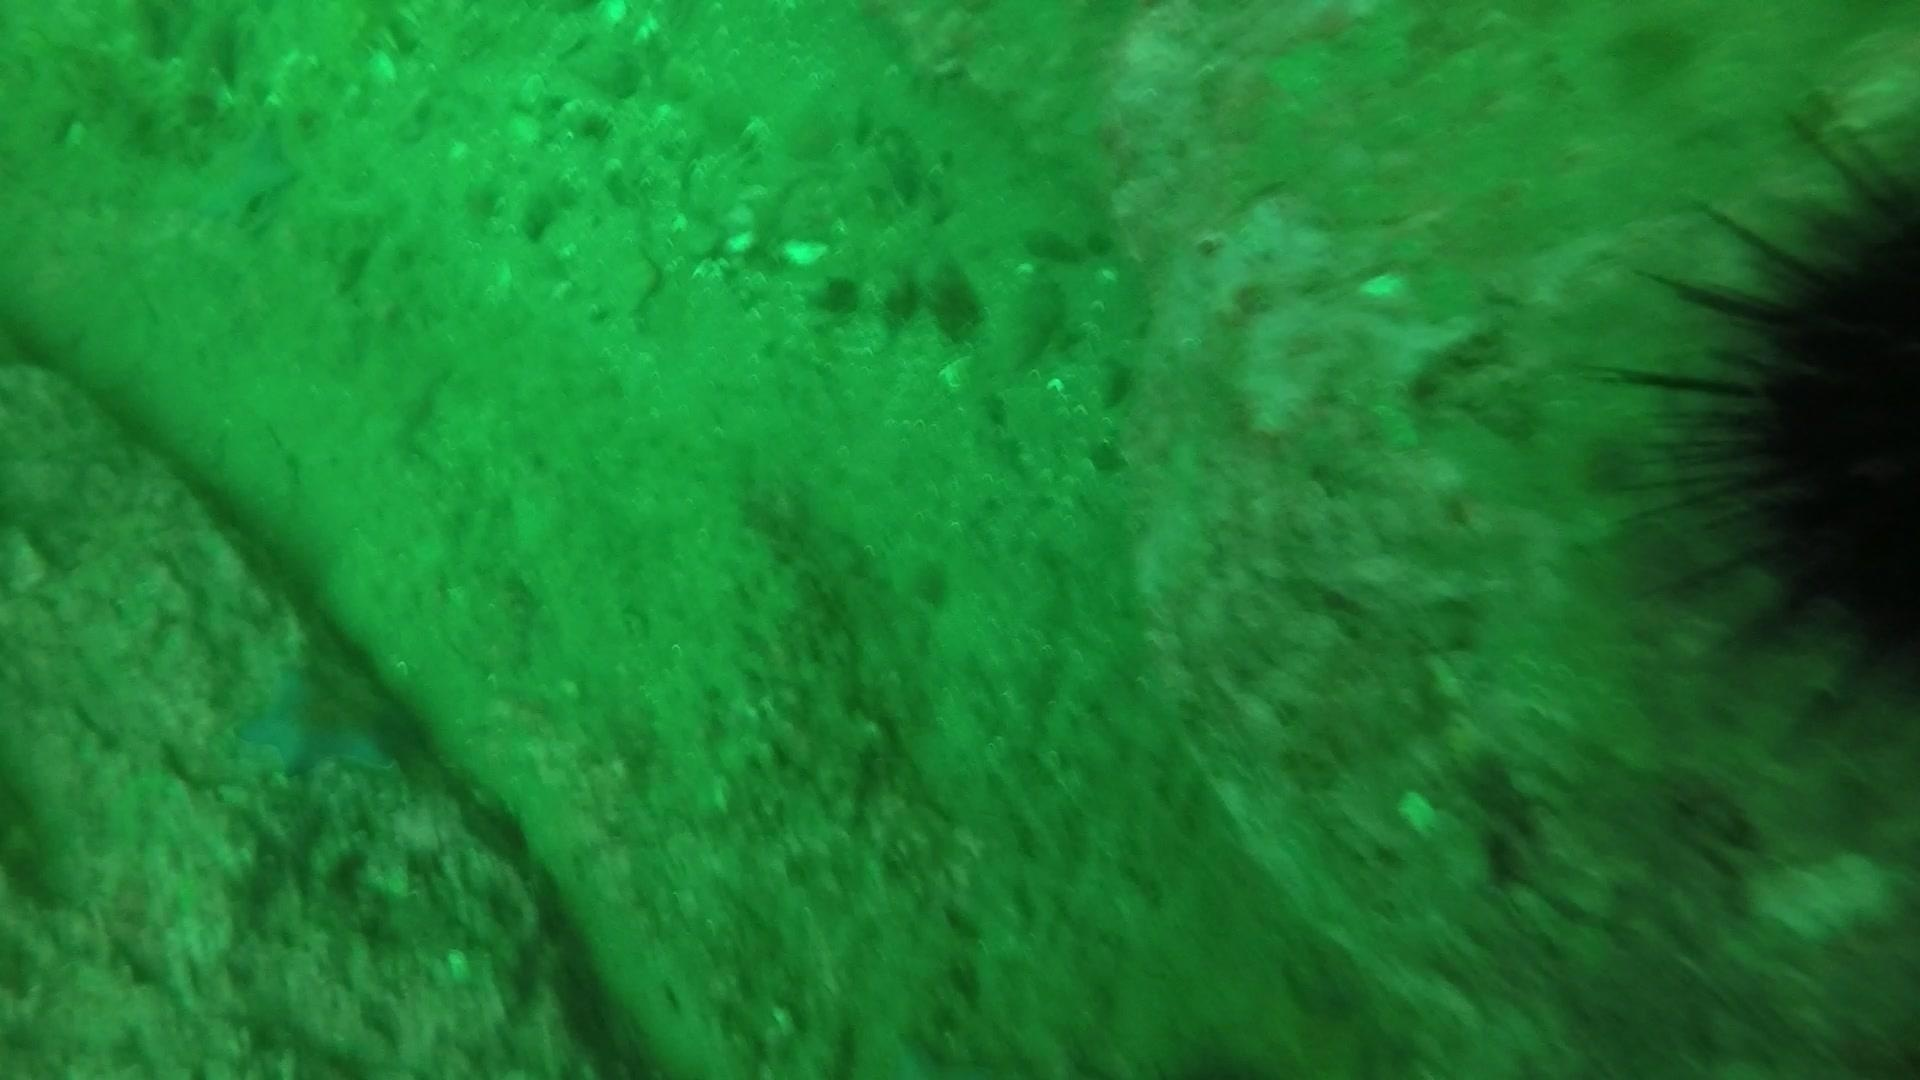echinus: (1605, 102, 1917, 682)
starfish: (227, 647, 410, 789), (175, 109, 306, 233)
